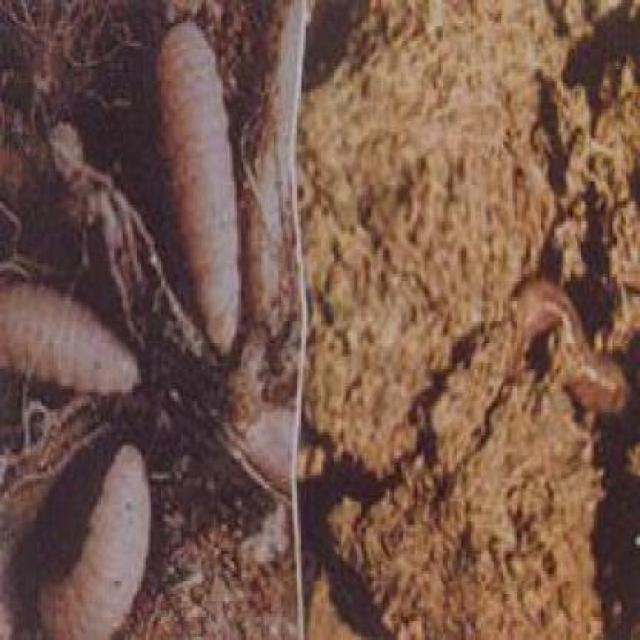whorl-maggot: (148, 12, 262, 368), (18, 432, 161, 635), (1, 269, 141, 412)
